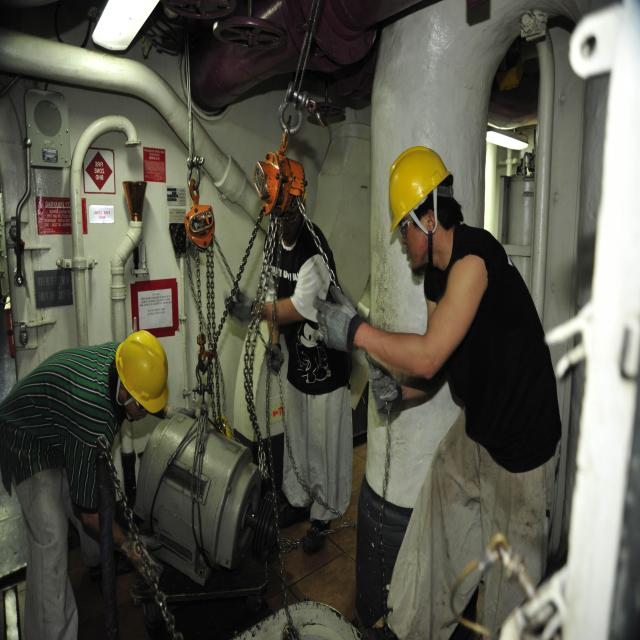helmet: (380, 136, 452, 240), (115, 317, 180, 417)
